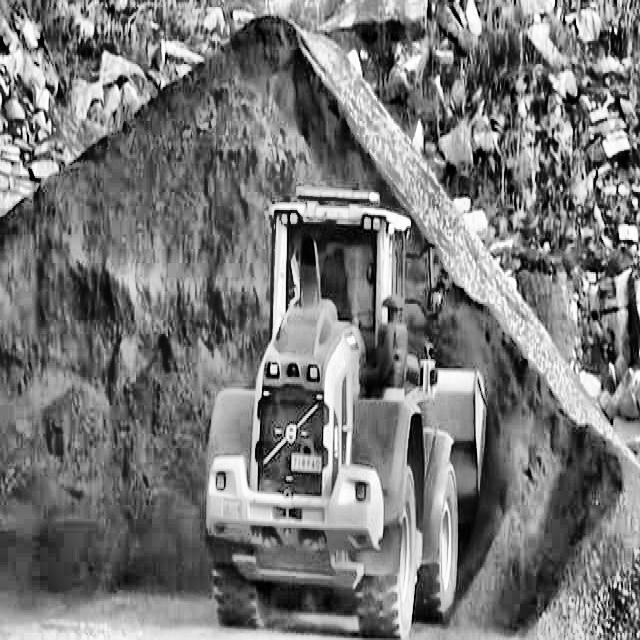buldozerpayloadergrader: (174, 170, 497, 640)
